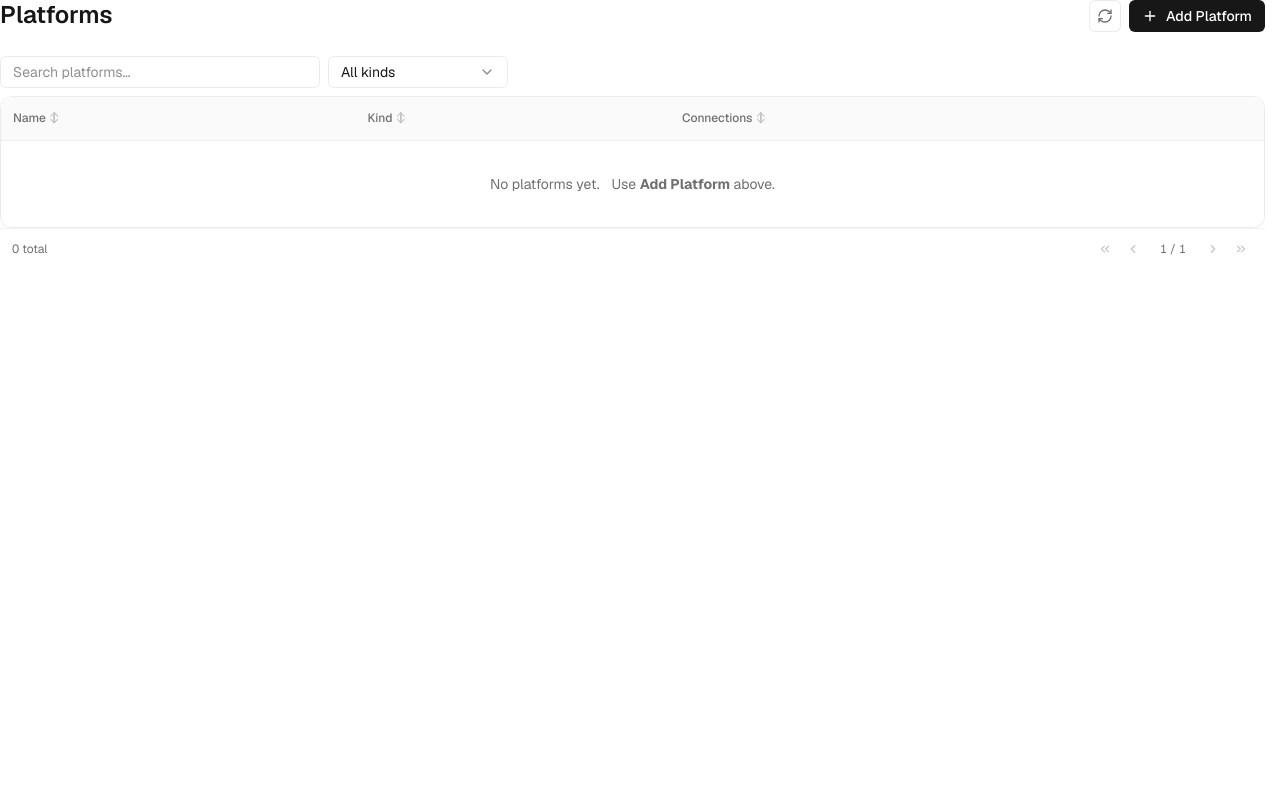
Test: PlatformsPage › Add Platform dialog: opens and shows kind-specific fields for the default kind (mcp/http)
Click the button "Add Platform".
click(1197, 16)  # box 1129,0 -> 1265,32
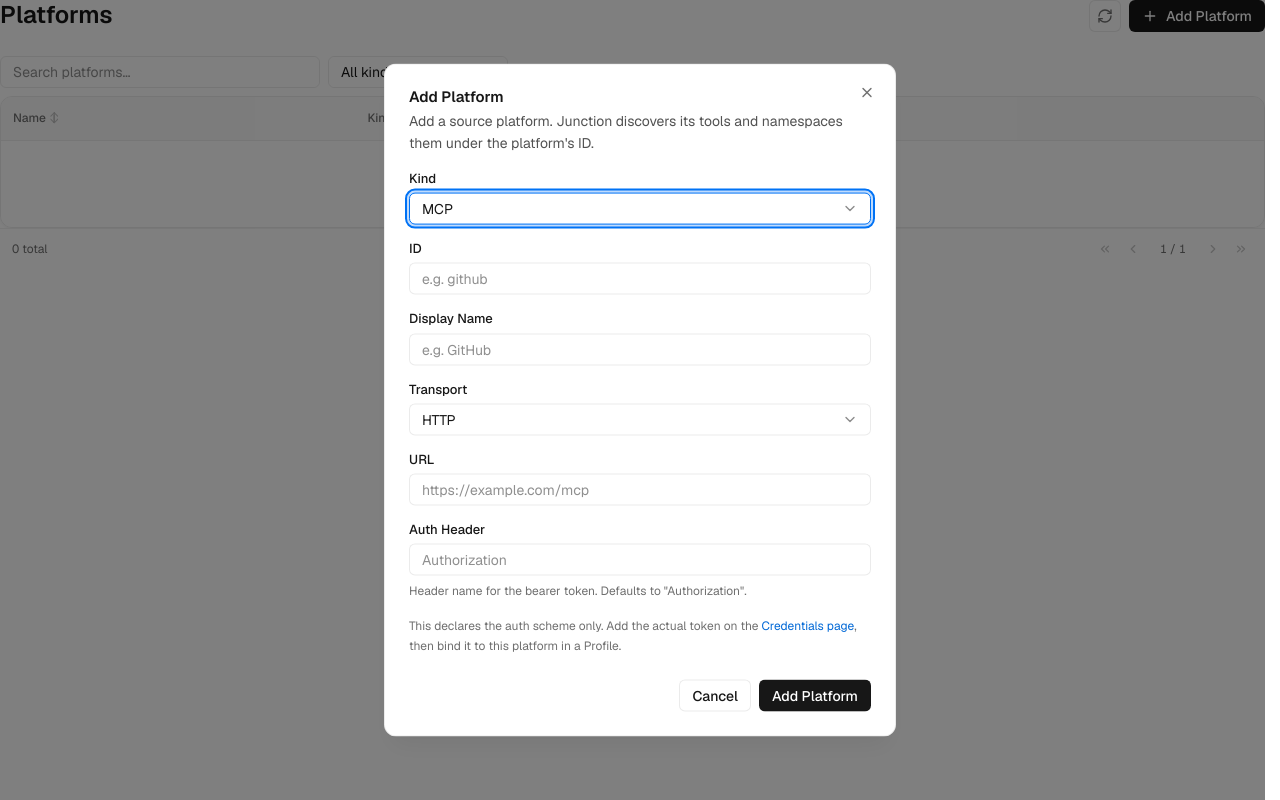
Now the dialog is shown, box 384,64 -> 896,736
Now the dropdown labelled "HTTP" is shown, box 409,403 -> 871,435
Now the field labelled "URL" is shown, box 409,474 -> 871,506
